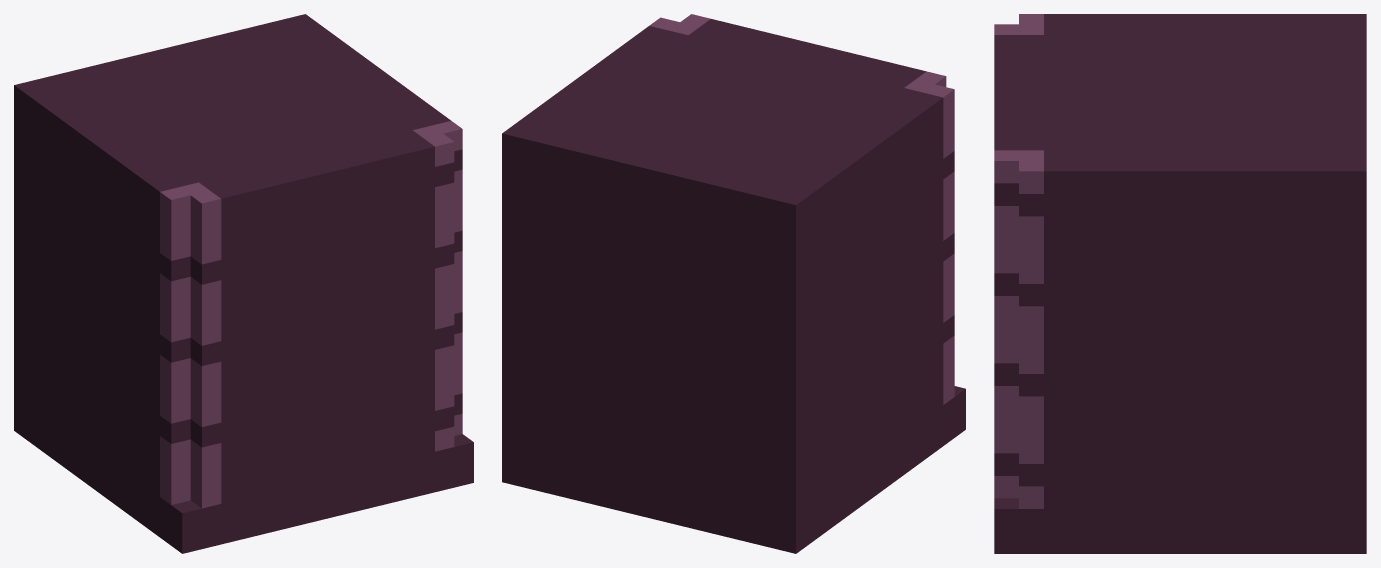
Rendered from dungeon_c_b_outer_wall_segment_b.obj.
3 views of the same model, side by side, from view 1: azimuth 30°, elevation 25°; view 2: azimuth 150°, elevation 25°; view 3: azimuth 270°, elevation 25° (orthographic). The views are drawn at different scales.
Size of the model in its own units: 1.5 by 1.7 by 1.5.
Materials: 1 (1 with a texture image).
